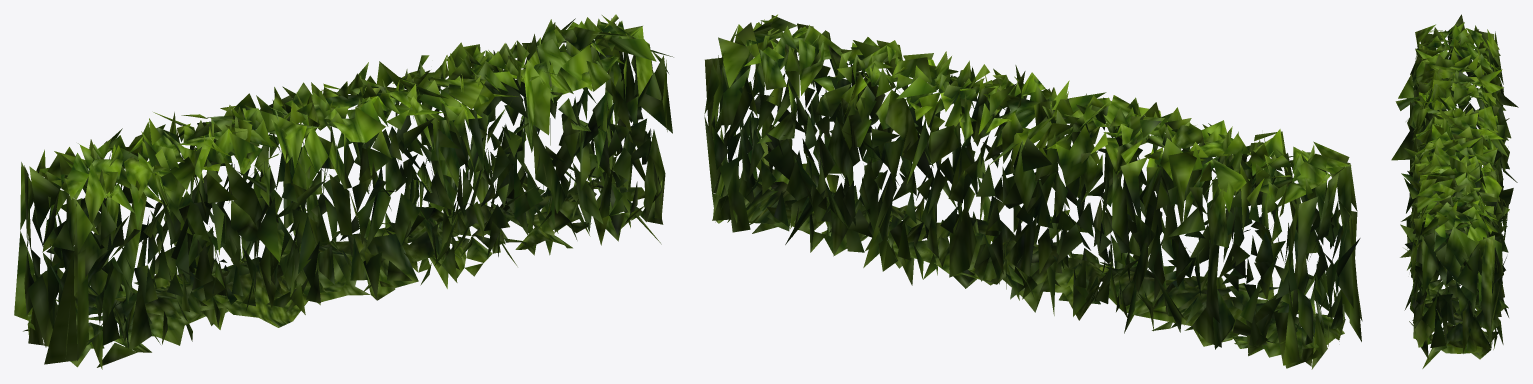
Rendered from hedge-1.lod1.glb.
The picture shows the model from 3 angles, left to right: view 1: azimuth 30°, elevation 25°; view 2: azimuth 150°, elevation 25°; view 3: azimuth 270°, elevation 25°; orthographic projection. The views are drawn at different scales.
Parts seen in each view (by area): view 1: terrain-hedge-1; view 2: terrain-hedge-1; view 3: terrain-hedge-1.
Part boxes in pixels (x1,y1,x2,y2): terrain-hedge-1: (14,14,673,369); terrain-hedge-1: (704,14,1362,369); terrain-hedge-1: (1391,14,1518,368).
Bounding box in the file's own units: 1 × 0.3367 × 0.2487.
Materials: 1 (1 with a texture image).
